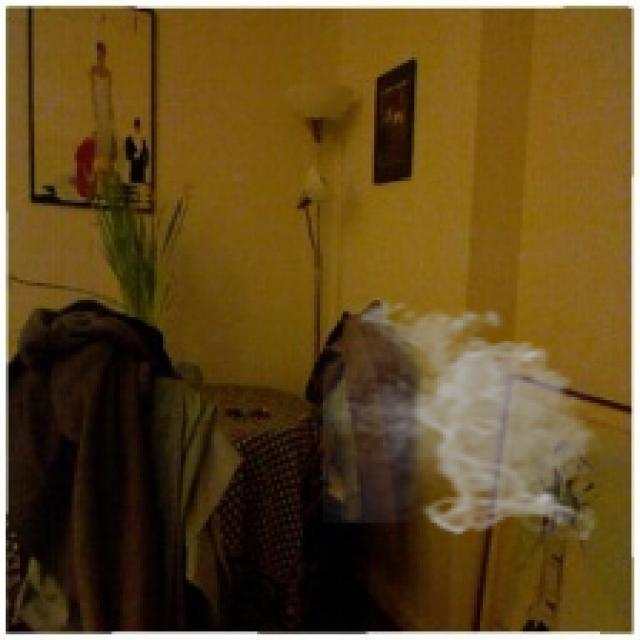smoke: (323, 294, 606, 540)
